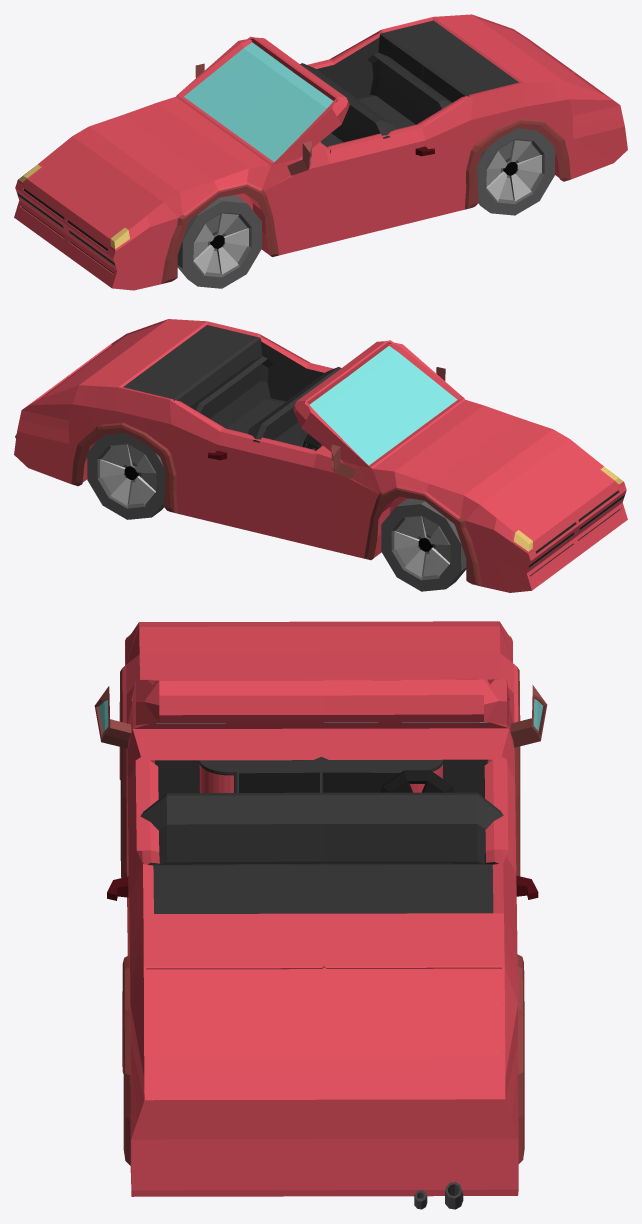
3 views of the same model, one above another, from view 1: azimuth 30°, elevation 25°; view 2: azimuth 150°, elevation 25°; view 3: azimuth 270°, elevation 25° (orthographic). The views are drawn at different scales.
Parts seen in each view (by area): view 1: Car, Wheel; view 2: Car, Wheel; view 3: Car, Steering Wheel.
Boxes of the visible parts, x1,y1,x2,y2 form: Car: (14,14,627,290); Wheel: (177,128,554,288); Car: (14,319,627,592); Wheel: (87,432,466,591); Car: (94,621,547,1196); Steering Wheel: (380,770,453,792).
Size of the model in its own units: 4.43 by 1.24 by 1.64.
